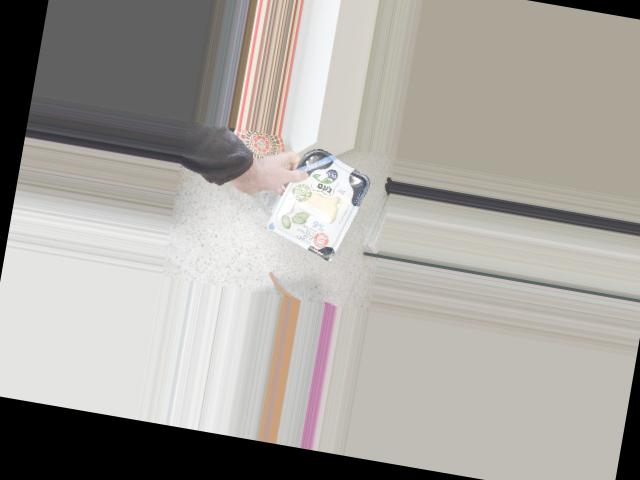cheese: (279, 154, 360, 251)
